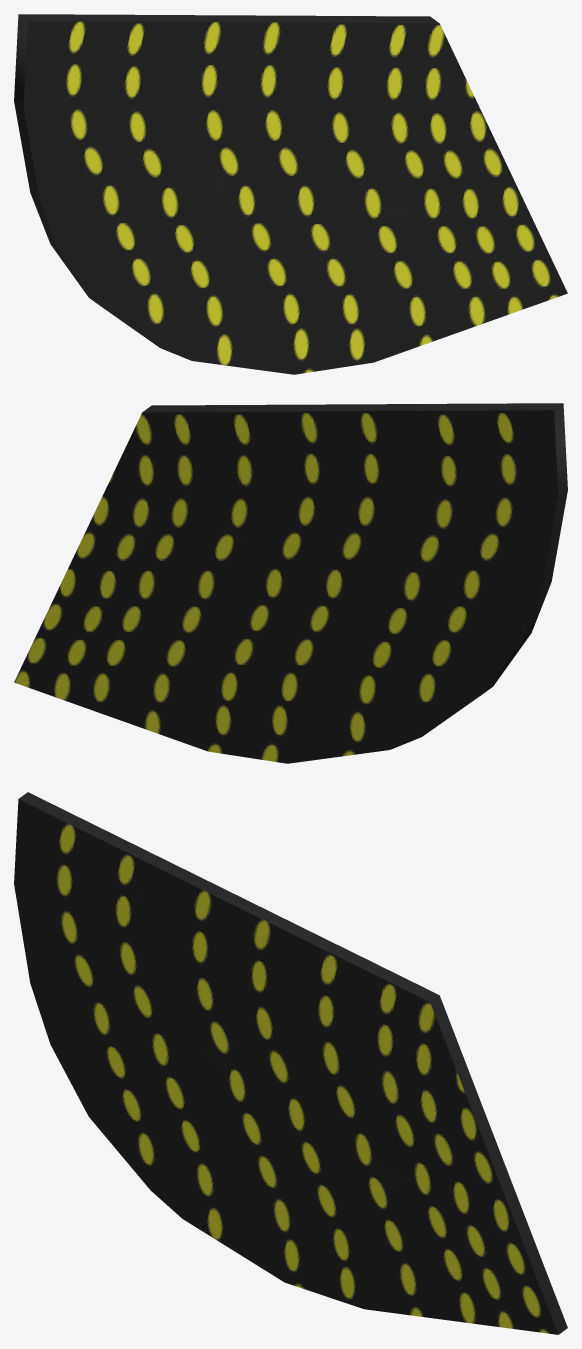
File: Dewlap.fbx
3 renders of one model, top to bottom at view 1: azimuth 30°, elevation 25°; view 2: azimuth 150°, elevation 25°; view 3: azimuth 330°, elevation 25°, orthographic.
Parts seen in each view (by area): view 1: Dewlap; view 2: Dewlap; view 3: Dewlap.
Boxes of the visible parts, x1,y1,x2,y2 form: Dewlap: (14,14,567,374); Dewlap: (14,403,567,763); Dewlap: (14,792,567,1334).
Size of the model in its own units: 3.93 by 2.94 by 0.1186.
